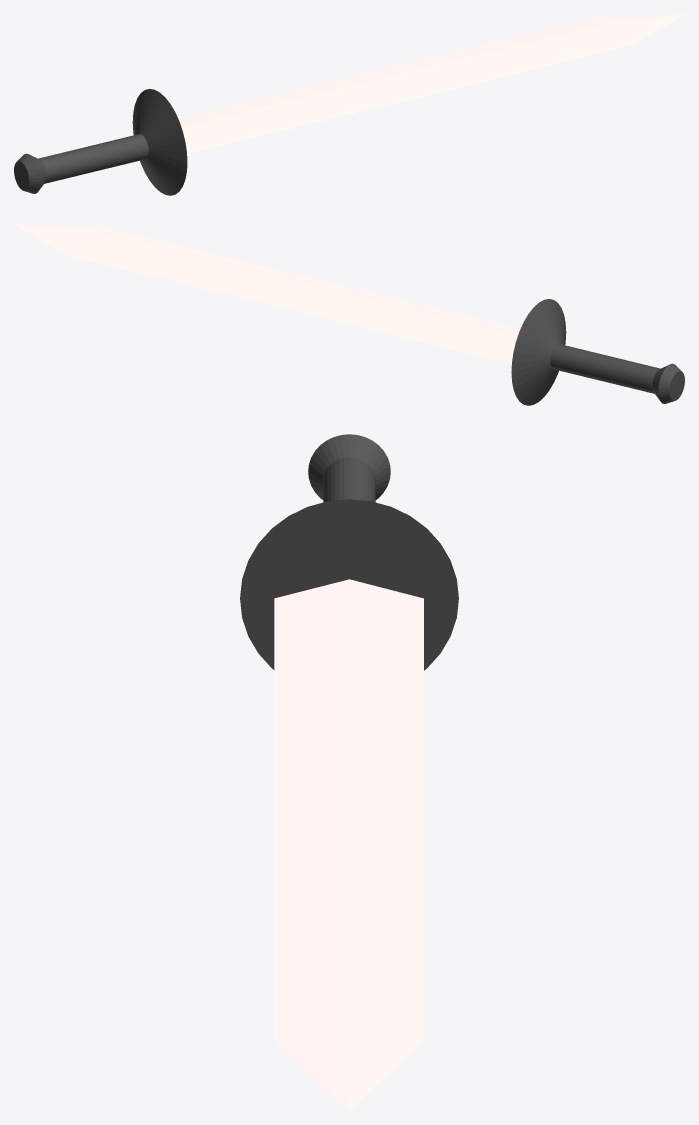
Rendered from glowing_sword_powered.glb.
3 views of the same model, one above another, from view 1: azimuth 30°, elevation 25°; view 2: azimuth 150°, elevation 25°; view 3: azimuth 270°, elevation 25° (orthographic). The views are drawn at different scales.
Visible parts, largest first — view 1: Blade, hilt; view 2: Blade, hilt; view 3: Blade, hilt.
Boxes of the visible parts, box(x1,y1,x2,y2) form: Blade: box(179, 14, 684, 153); hilt: box(14, 89, 187, 195); Blade: box(14, 224, 520, 363); hilt: box(511, 299, 684, 405); Blade: box(274, 579, 423, 1110); hilt: box(240, 434, 458, 670).
Size of the model in its own units: 102 by 14.63 by 14.63.
Materials: 2 (2 with a texture image).
